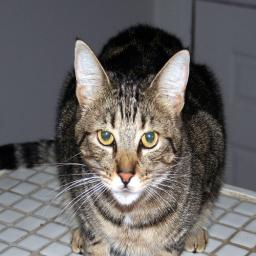catnose: (117, 165, 136, 188)
